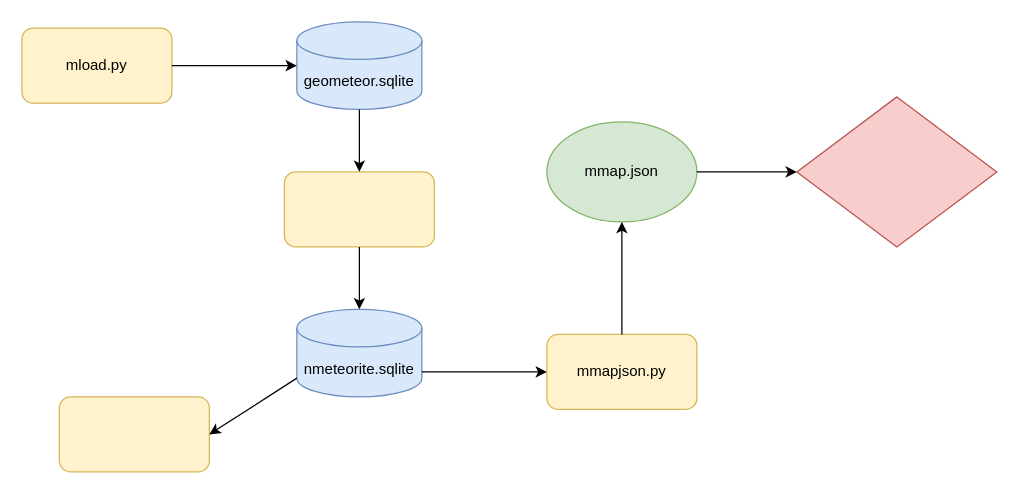
The diagram is 1019 pixels wide and 494 high, and some of its shapes have lost their labels. The centre of each missing label's shape, as x and y in pixels:
"meteorite_dashboad.mstr" belongs at pixel 896 171.
"minfo.py" belongs at pixel 133 434.
"mnormal.py" belongs at pixel 358 209.
